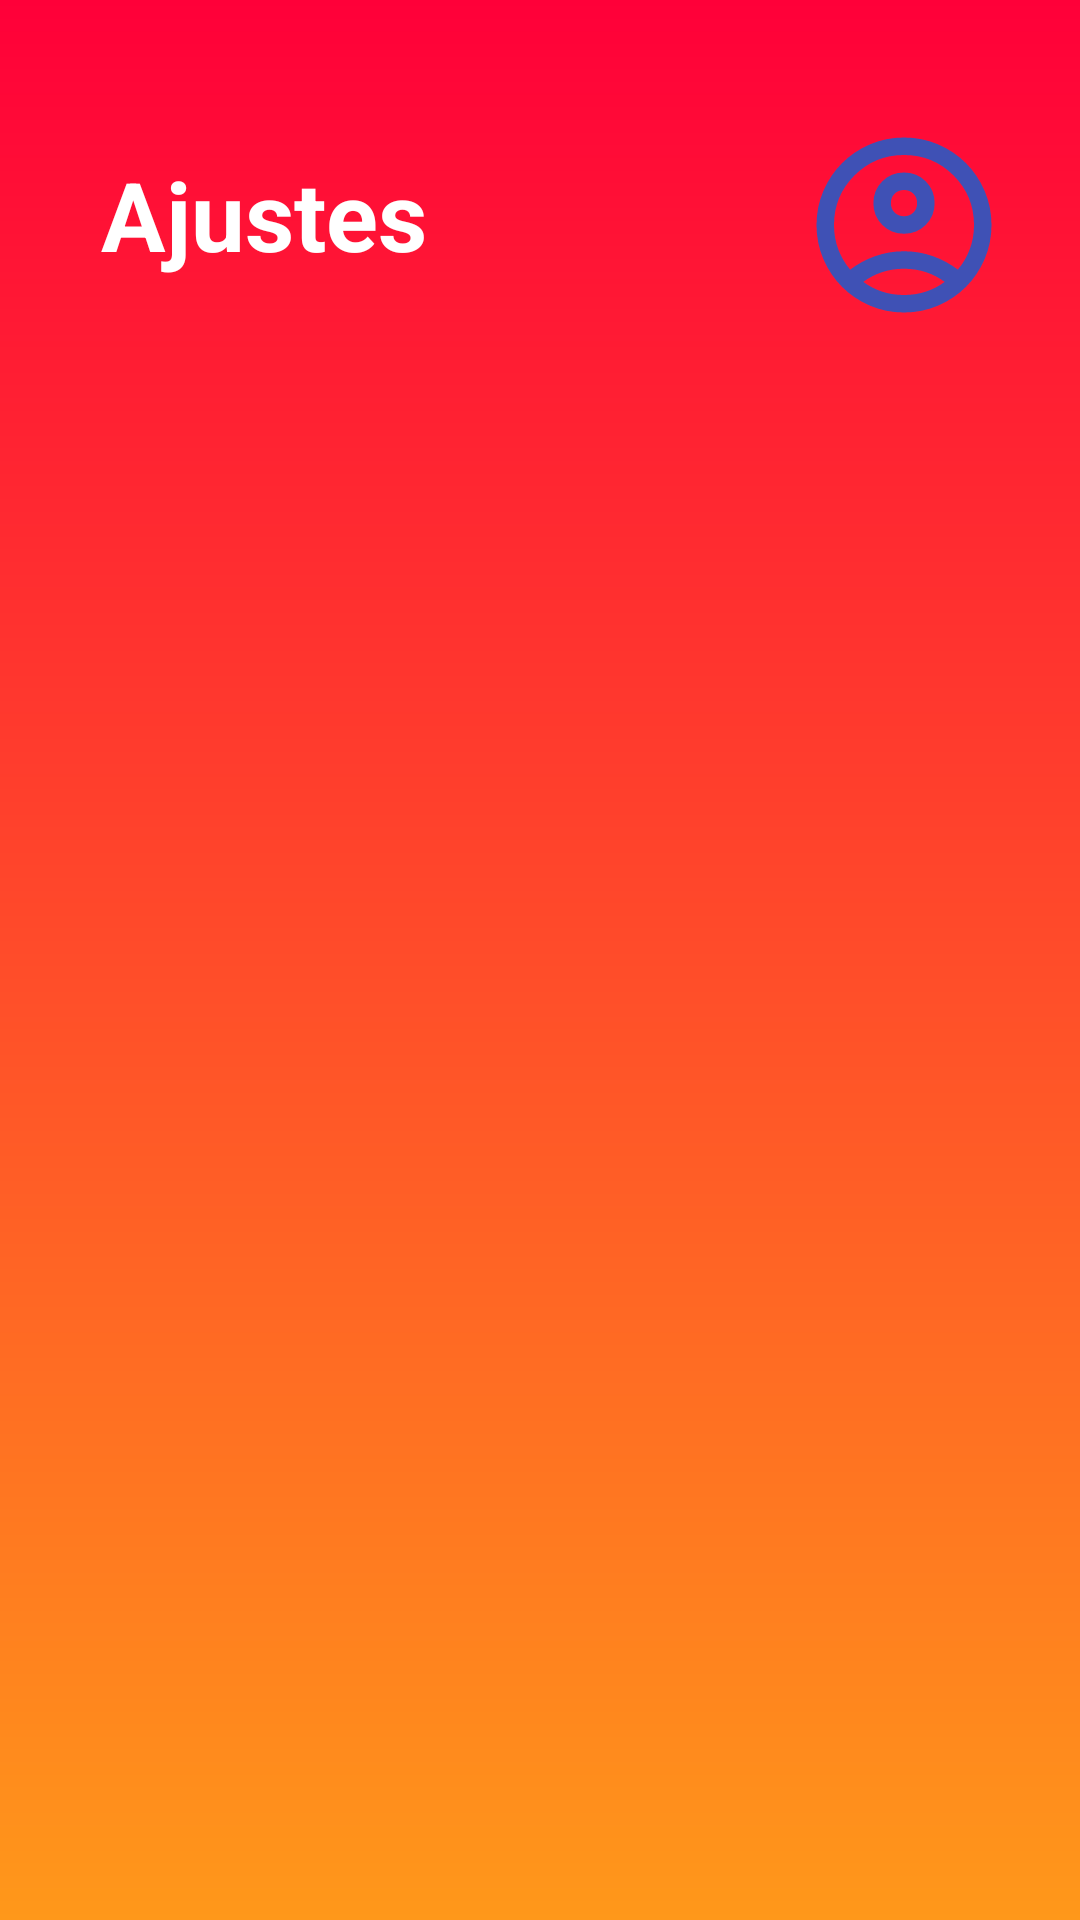

Icon bounding boxes for this 1080x1920 phone screenshot, format bbox(x1, y1, x2, y2):
Perfil: bbox(799, 75, 1009, 313)
